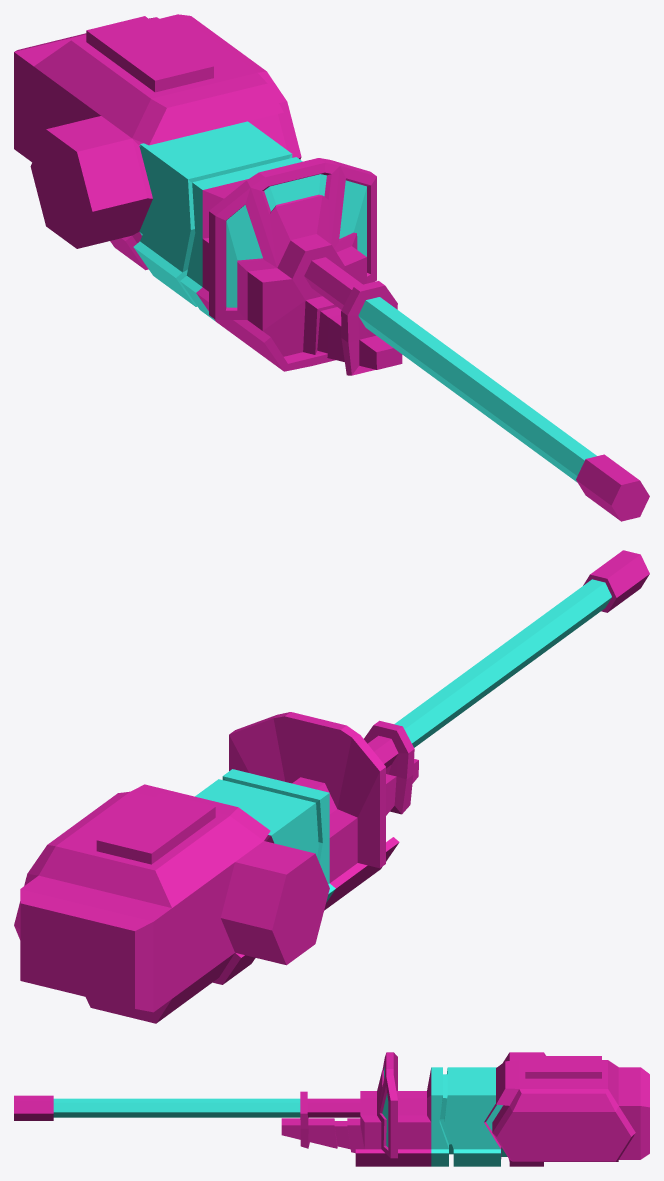
The model's file is Sniper.fbx.
3 renders of one model, top to bottom at view 1: azimuth 30°, elevation 25°; view 2: azimuth 150°, elevation 25°; view 3: azimuth 270°, elevation 25°, orthographic. The views are drawn at different scales.
Visible parts, largest first — view 1: Sniper; view 2: Sniper; view 3: Sniper.
Part boxes in pixels (x1,y1,x2,y2): Sniper: (14, 14, 649, 521); Sniper: (14, 550, 649, 1023); Sniper: (14, 1052, 649, 1166).
Bounding box in the file's own units: 40.08 × 31.31 × 187.
